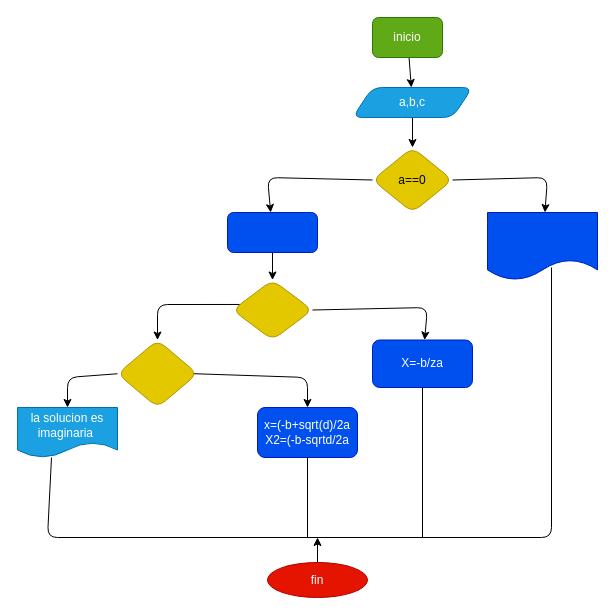
Some shapes in this 615 by 615 pixel diagram are drawn without their labels. Each missing label, with the box of its shape:
d==0: (232, 279, 312, 340)
d=b2-4ac: (226, 212, 318, 252)
d>0: (116, 339, 198, 408)
no hay ecuacion cuadratica: (486, 212, 598, 280)
